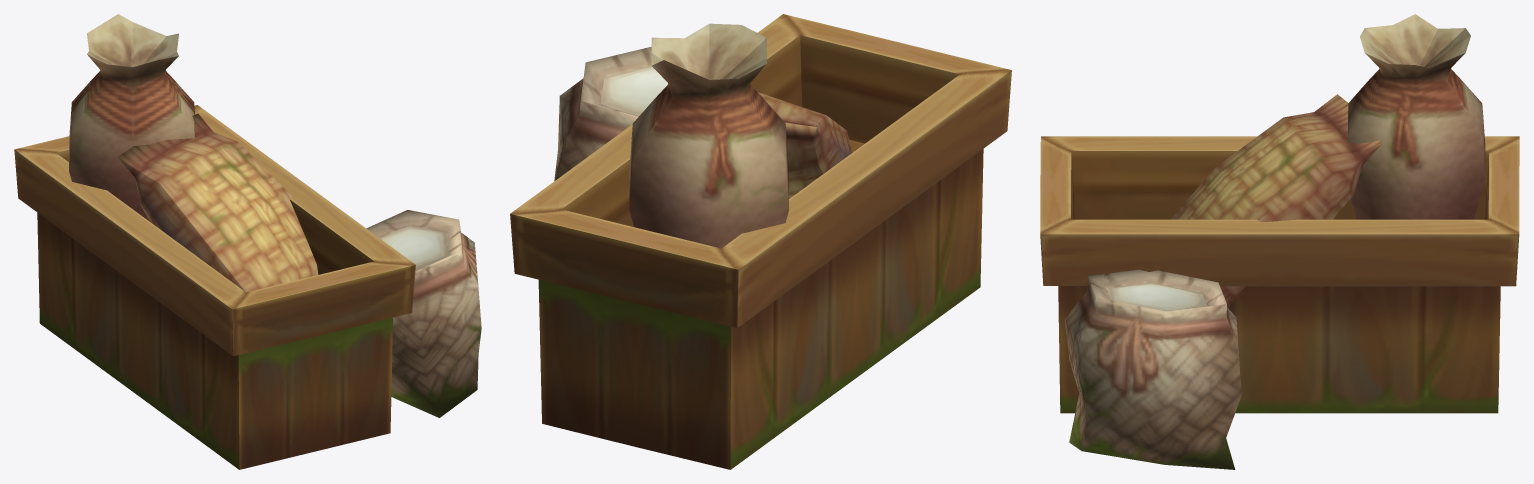
File: map_1002_pengzi_02_c.FBX
The picture shows the model from 3 angles, left to right: view 1: azimuth 30°, elevation 25°; view 2: azimuth 150°, elevation 25°; view 3: azimuth 270°, elevation 25°; orthographic projection. The views are drawn at different scales.
Parts seen in each view (by area): view 1: map_1002_pengzi_02_c; view 2: map_1002_pengzi_02_c; view 3: map_1002_pengzi_02_c.
Boxes of the visible parts, x1,y1,x2,y2 form: map_1002_pengzi_02_c: (14,14,481,469); map_1002_pengzi_02_c: (510,14,1011,469); map_1002_pengzi_02_c: (1040,14,1519,469).
Size of the model in its own units: 147 by 140 by 182.
